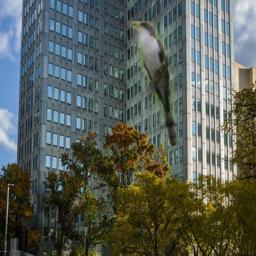Cuckoo: (132, 21, 177, 146)
